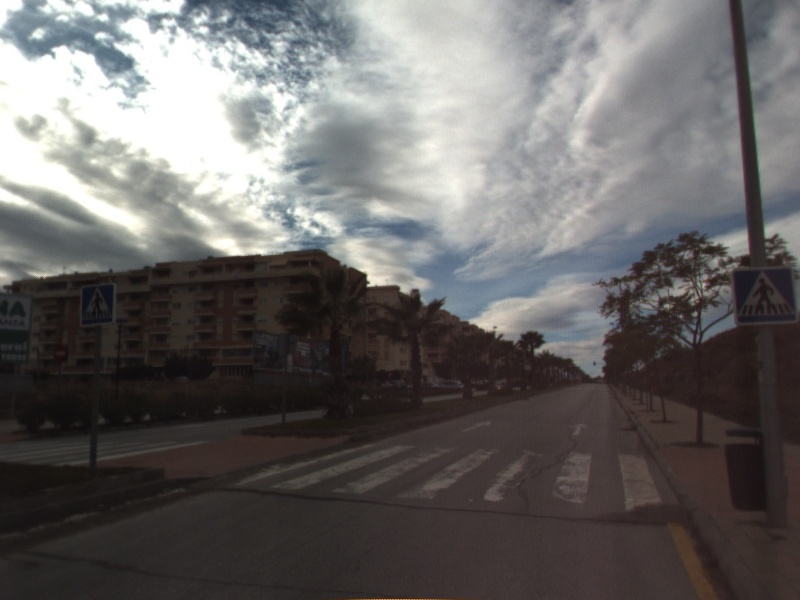STRAIGHT: (460, 419, 493, 433), (567, 421, 593, 438)
